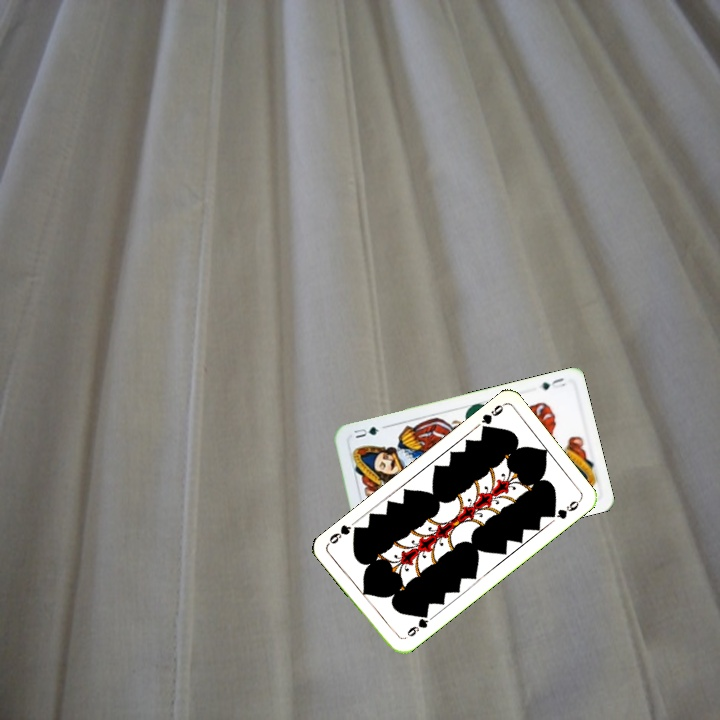G9: (399, 609, 431, 642), (477, 400, 507, 435)
GU: (538, 374, 568, 393)
